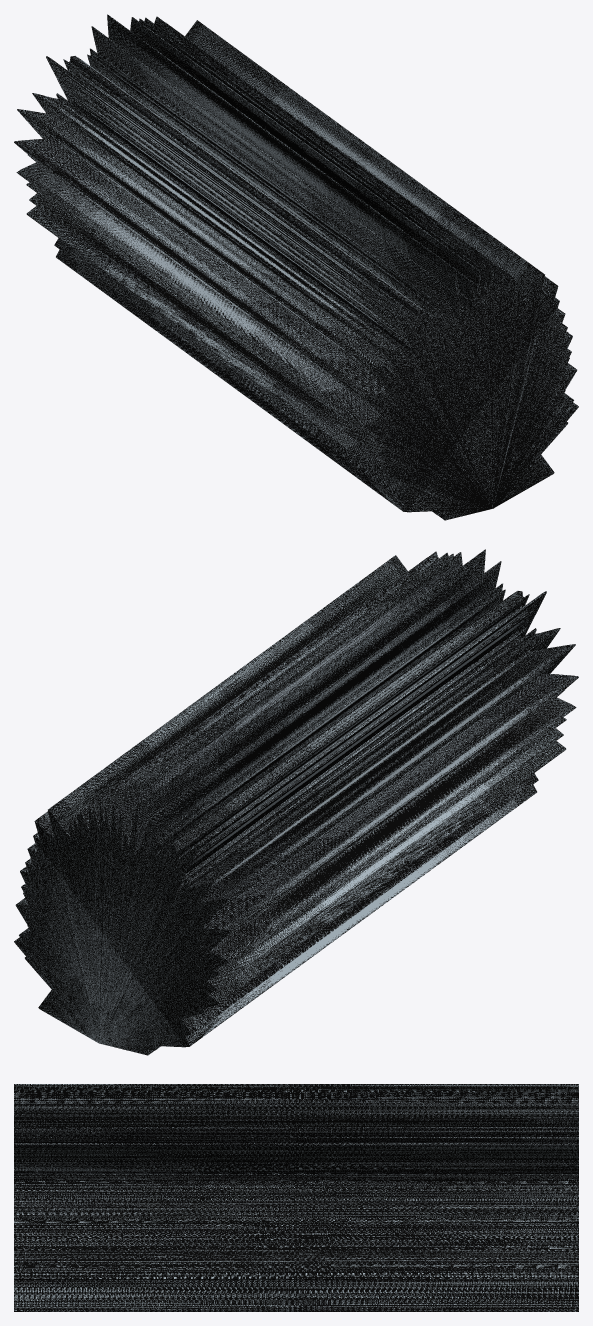
The model's file is obstacle1.fbx.
3 views of the same model, one above another, from view 1: azimuth 30°, elevation 25°; view 2: azimuth 150°, elevation 25°; view 3: azimuth 270°, elevation 25° (orthographic). The views are drawn at different scales.
Visible parts, largest first — view 1: Group1; view 2: Group1; view 3: Group1.
Part boxes in pixels (<box>): Group1: <box>14,14,578,520</box>; Group1: <box>14,549,578,1055</box>; Group1: <box>14,1084,578,1311</box>.
Bounding box in the file's own units: 54.22 × 59.37 × 150.
